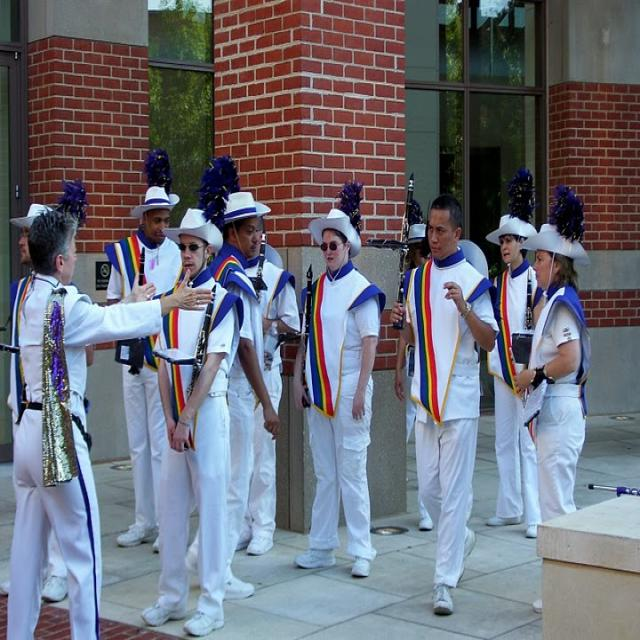clarinet: (177, 280, 218, 440), (390, 168, 419, 329), (125, 244, 151, 378), (296, 263, 316, 413), (522, 262, 537, 334), (257, 234, 269, 295)
